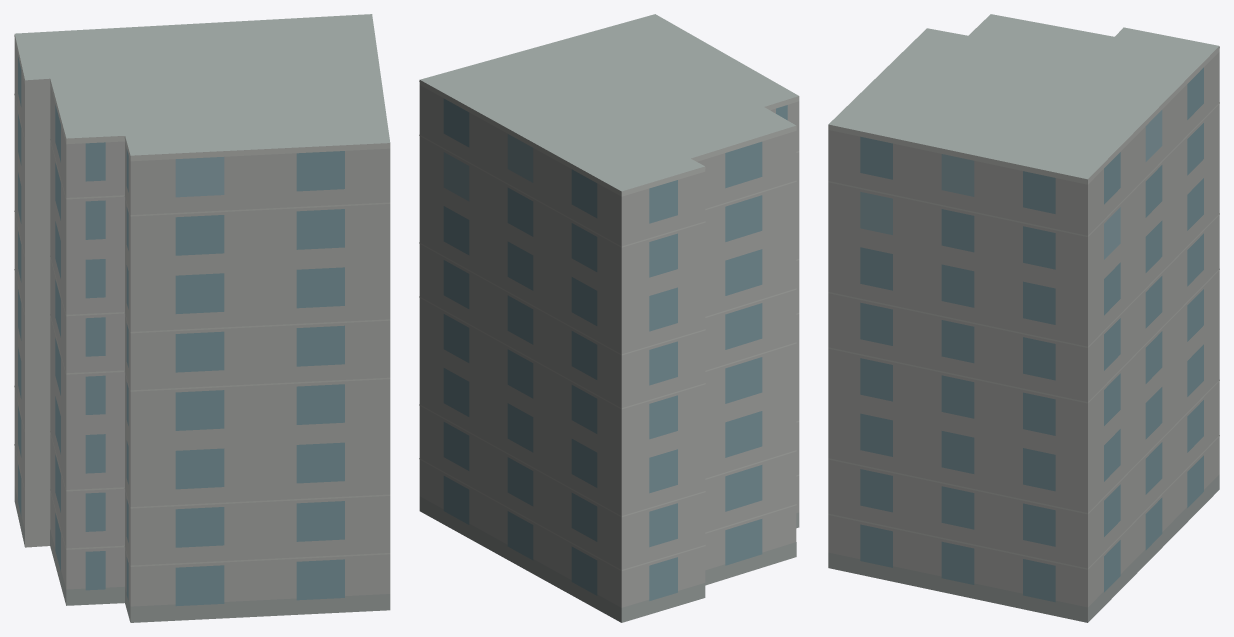
Rendered from survey-upis-32994945.glb.
The picture shows the model from 3 angles, left to right: view 1: azimuth 30°, elevation 25°; view 2: azimuth 150°, elevation 25°; view 3: azimuth 270°, elevation 25°; orthographic projection. The views are drawn at different scales.
Parts seen in each view (by area): view 1: survey-upis-32994945.tmp; view 2: survey-upis-32994945.tmp; view 3: survey-upis-32994945.tmp.
Boxes of the visible parts, x1,y1,x2,y2 form: survey-upis-32994945.tmp: (14,14,390,622); survey-upis-32994945.tmp: (419,14,799,622); survey-upis-32994945.tmp: (828,14,1219,622).
Bounding box in the file's own units: 16.01 × 20 × 16.01.
